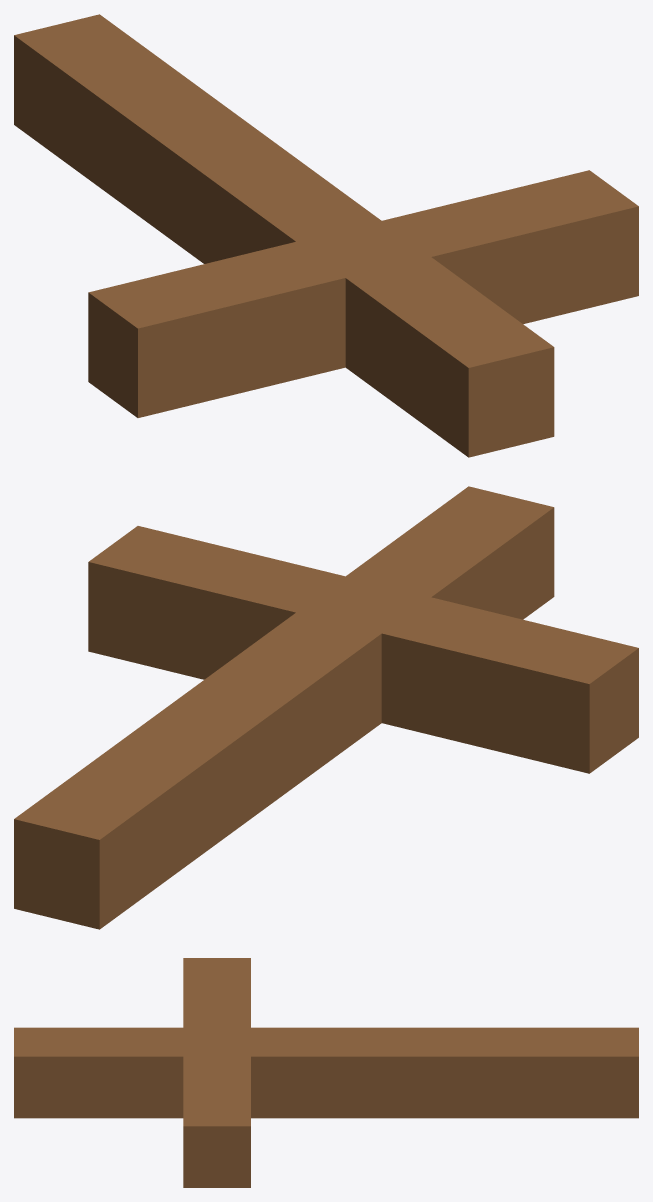
Rendered from char_020_item_cross_wood_01_FBX.fbx.
The picture shows the model from 3 angles, top to bottom: view 1: azimuth 30°, elevation 25°; view 2: azimuth 150°, elevation 25°; view 3: azimuth 270°, elevation 25°; orthographic projection. The views are drawn at different scales.
Parts seen in each view (by area): view 1: item_cross_wood_01; view 2: item_cross_wood_01; view 3: item_cross_wood_01.
Part boxes in pixels (bbox=[...]): item_cross_wood_01: bbox=[14, 14, 638, 457]; item_cross_wood_01: bbox=[14, 486, 638, 929]; item_cross_wood_01: bbox=[14, 958, 638, 1187].
Bounding box in the file's own units: 0.7717 × 0.1319 × 1.21.
1 material, 1 textured.
